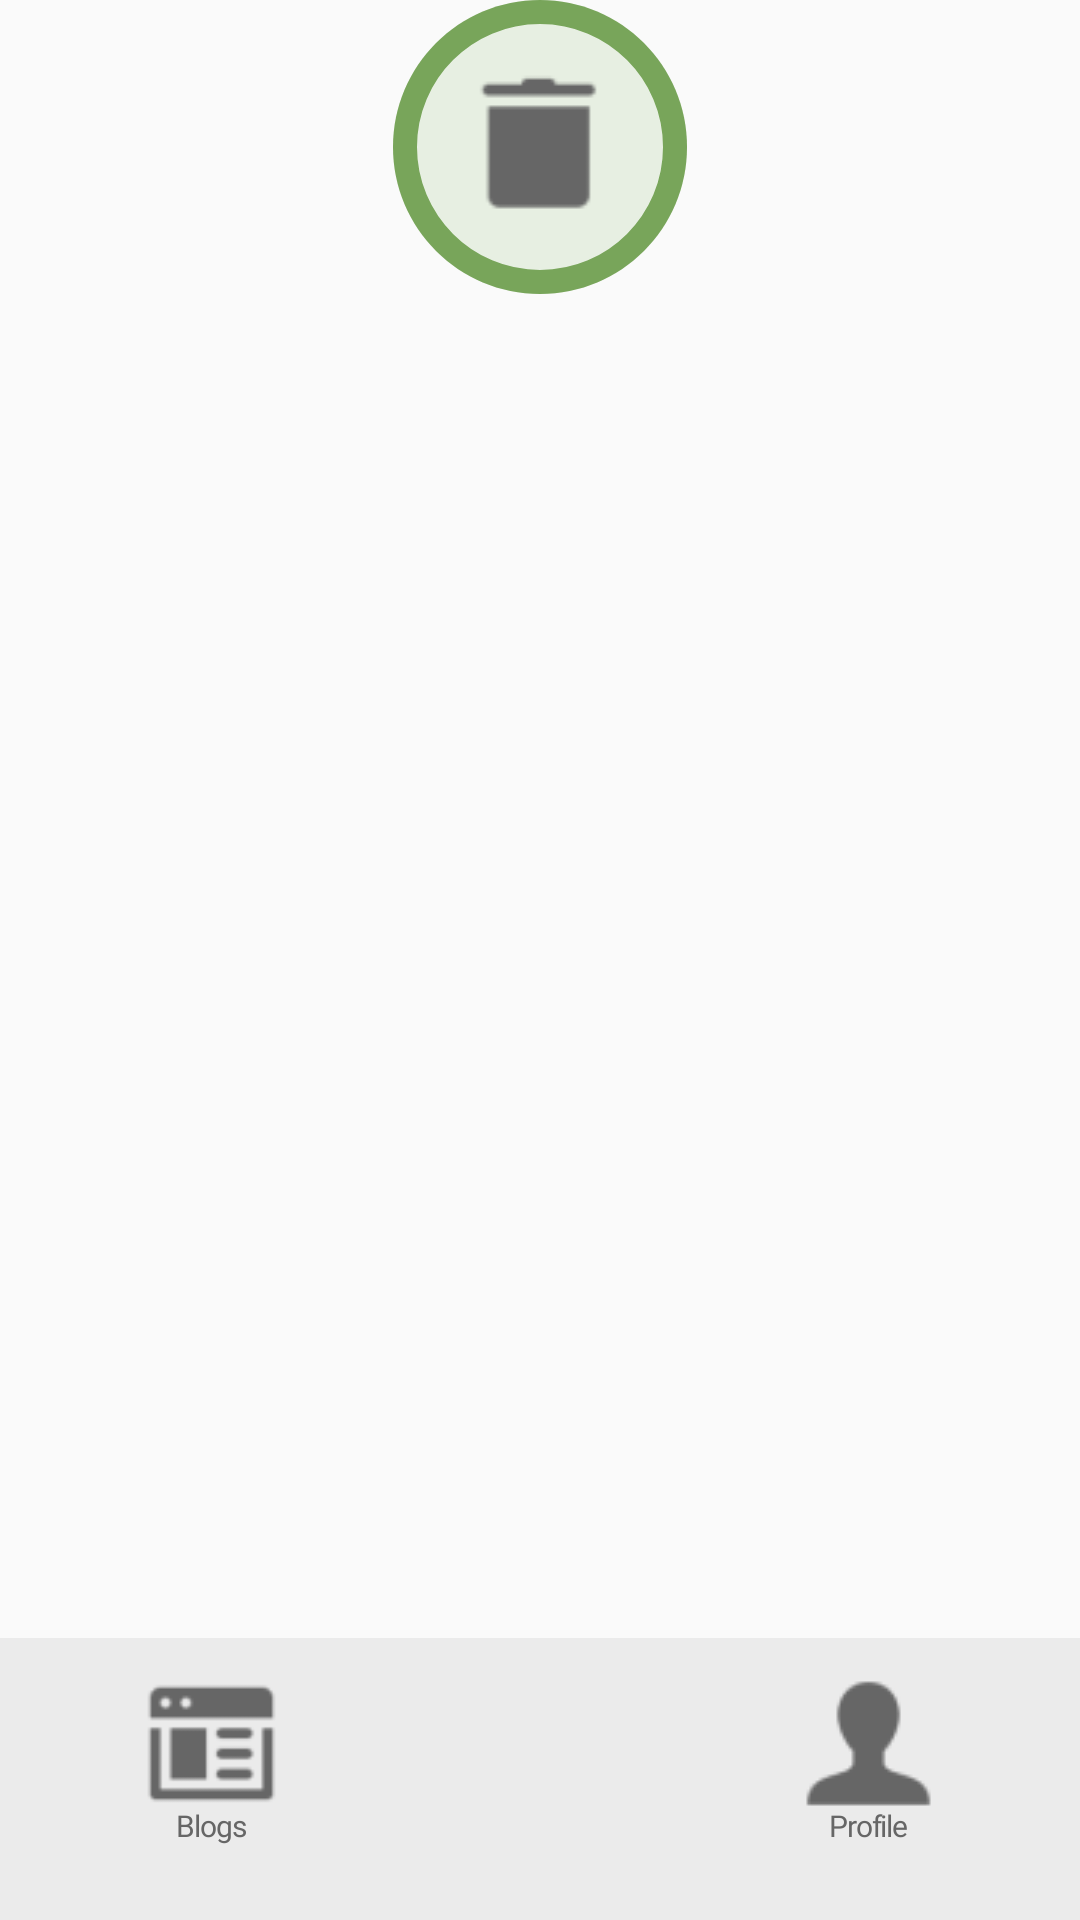

Screen size 1080 x 1920. Icon name, then its box in pixels as (x1, y1, x2, y2):
customer: (806, 1681, 931, 1806)
trashcan: (481, 78, 596, 209)
web: (149, 1686, 274, 1801)
